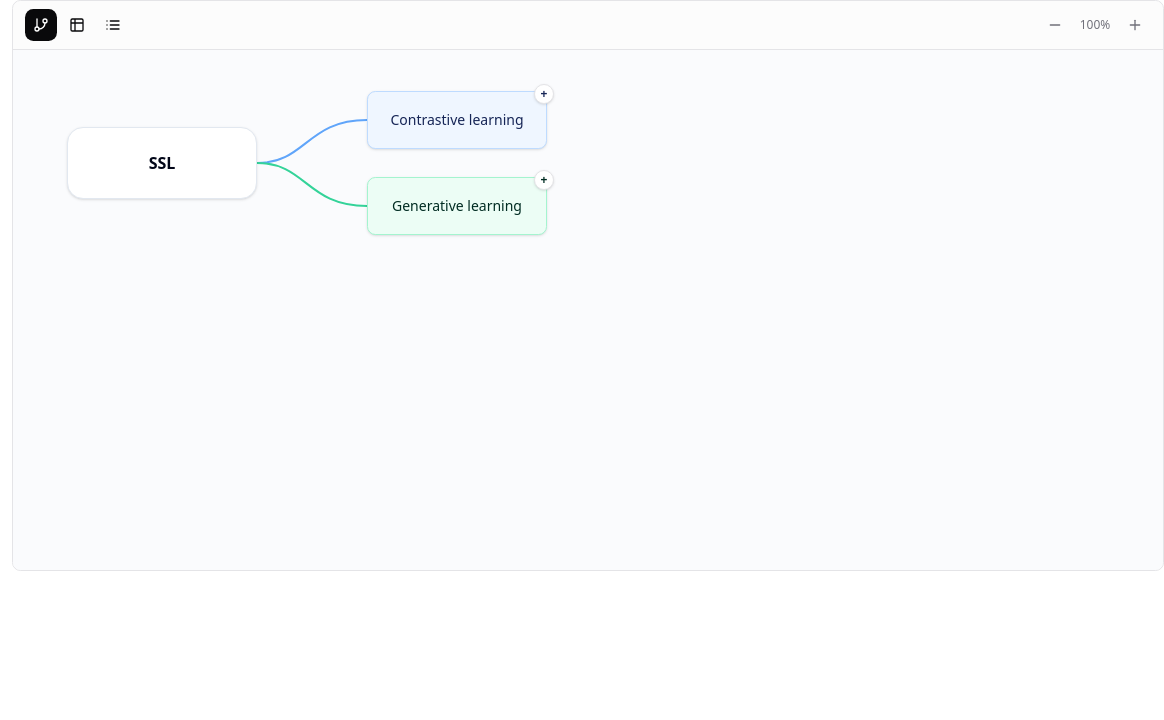
Scenario: LearningAssetPreview mind maps › renders Mermaid mindmap content as a visual node tree
Expected: the text "SSL" is shown, [149,151,175,175]
Expected: the text "Contrastive learning" is shown, [390,110,524,130]
Click the button "+ Contrastive learning" at (457, 120), box [367,91,547,149]
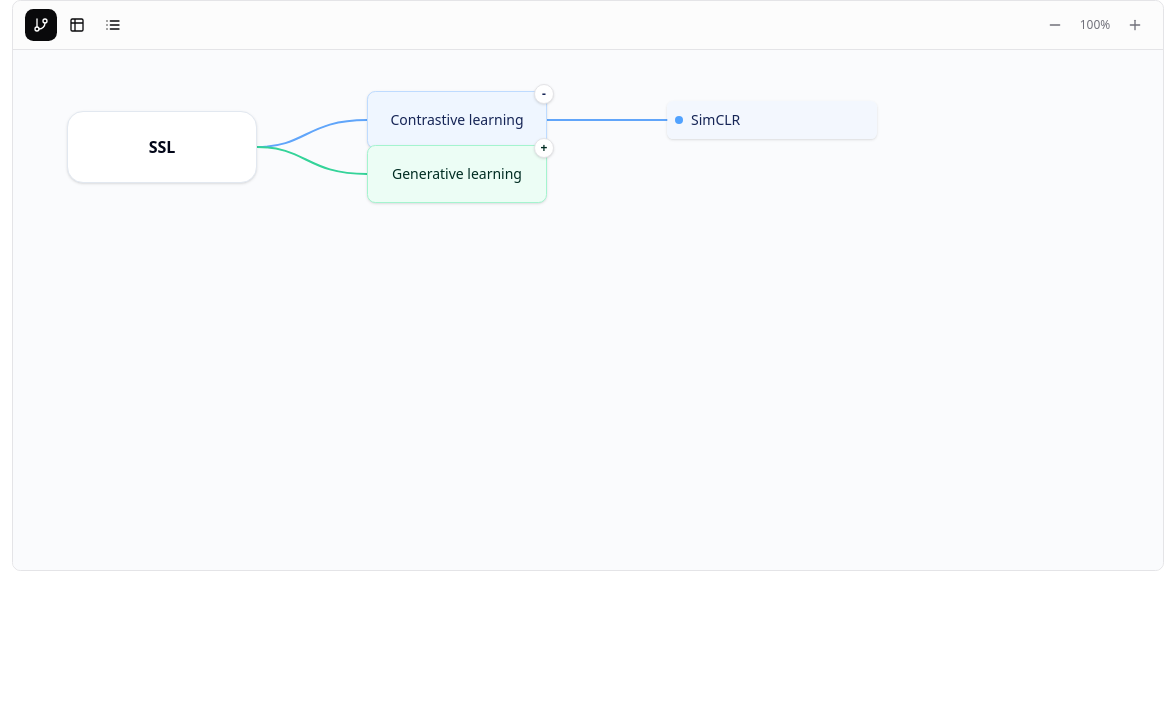
Expected: the text "SimCLR" is shown, [691,110,740,130]
